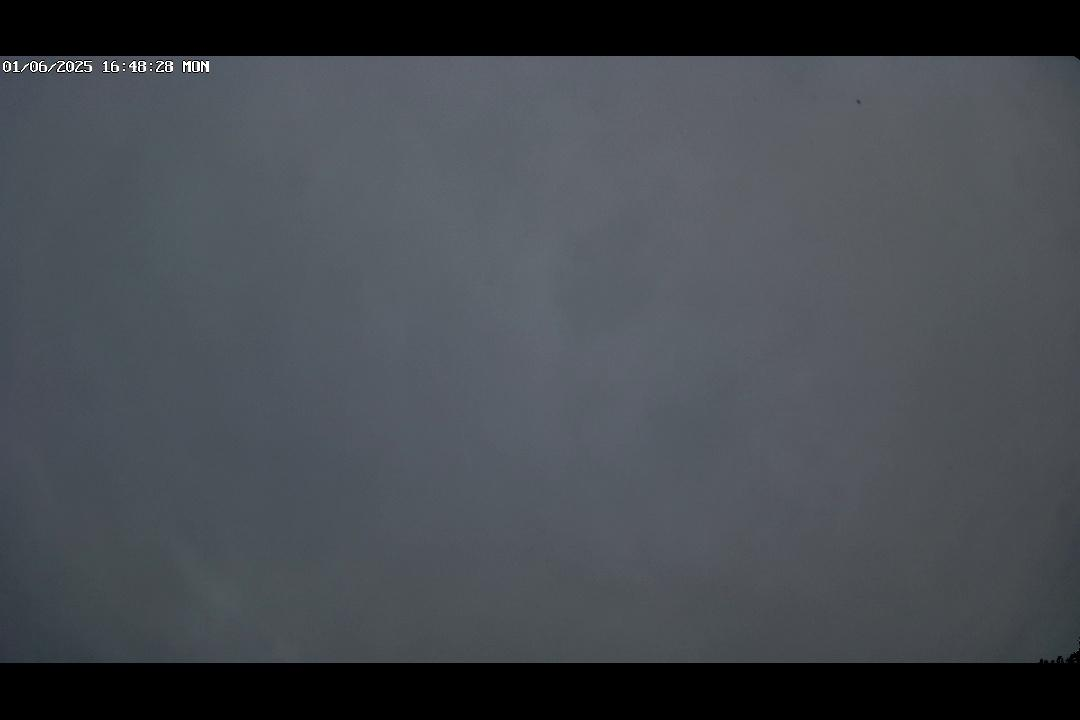WildLife: (851, 93, 869, 109)
